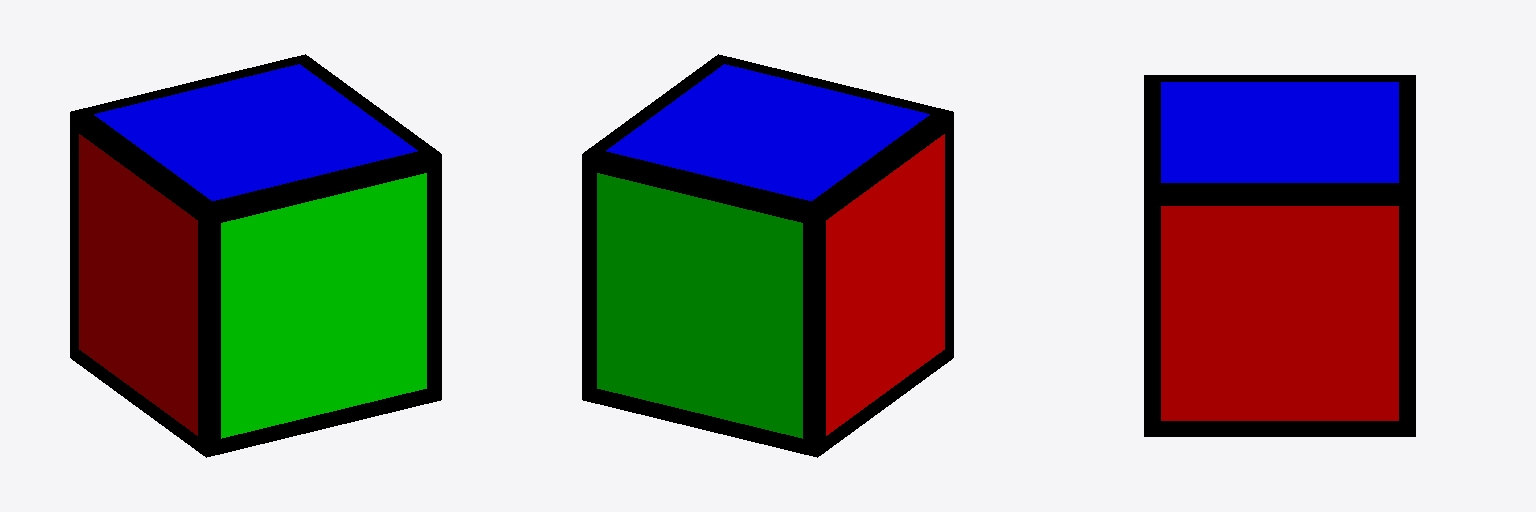
3 views of the same model, side by side, from view 1: azimuth 30°, elevation 25°; view 2: azimuth 150°, elevation 25°; view 3: azimuth 270°, elevation 25° (orthographic).
Visible parts, largest first — view 1: Cube; view 2: Cube; view 3: Cube.
Part boxes in pixels (bbox=[...]): Cube: bbox=[70, 54, 441, 457]; Cube: bbox=[582, 54, 953, 457]; Cube: bbox=[1144, 75, 1415, 436].
Size of the model in its own units: 1 by 1 by 1.
3 materials, 3 textured.